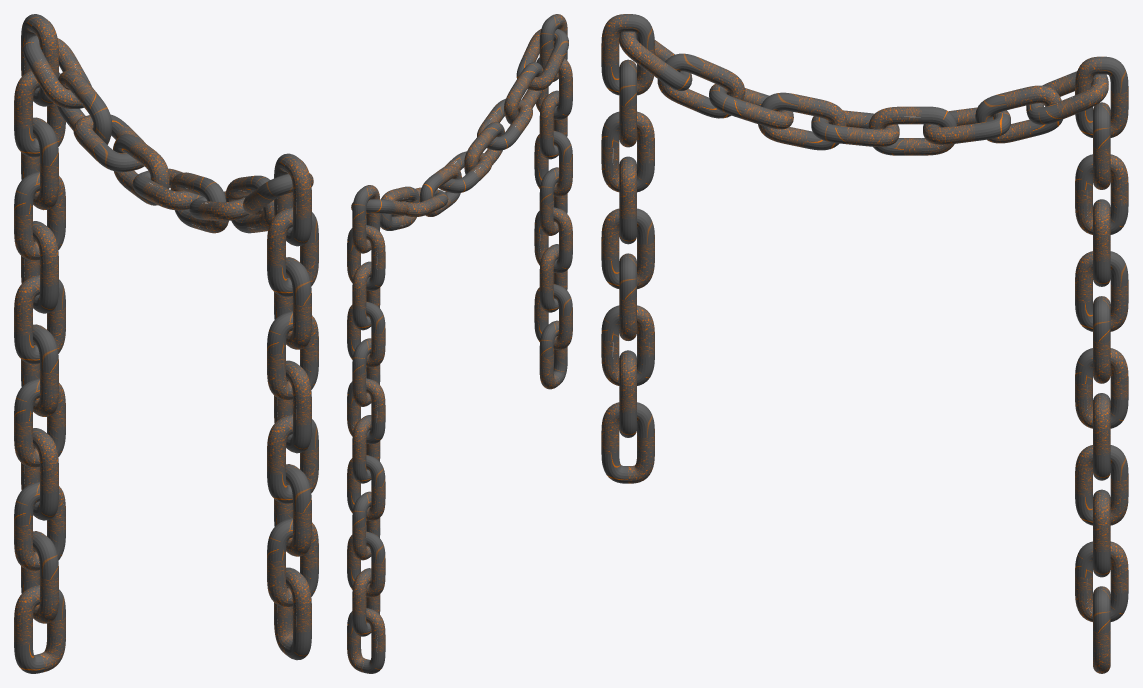
Rendered from M_Catena.fbx.
3 views of the same model, side by side, from view 1: azimuth 30°, elevation 25°; view 2: azimuth 150°, elevation 25°; view 3: azimuth 270°, elevation 25° (orthographic). The views are drawn at different scales.
Parts seen in each view (by area): view 1: Catena; view 2: Catena; view 3: Catena.
Part boxes in pixels (x1,y1,x2,y2): Catena: (14, 14, 318, 673); Catena: (347, 14, 572, 673); Catena: (601, 14, 1128, 673).
Bounding box in the file's own units: 0.3761 × 5.08 × 3.7.
